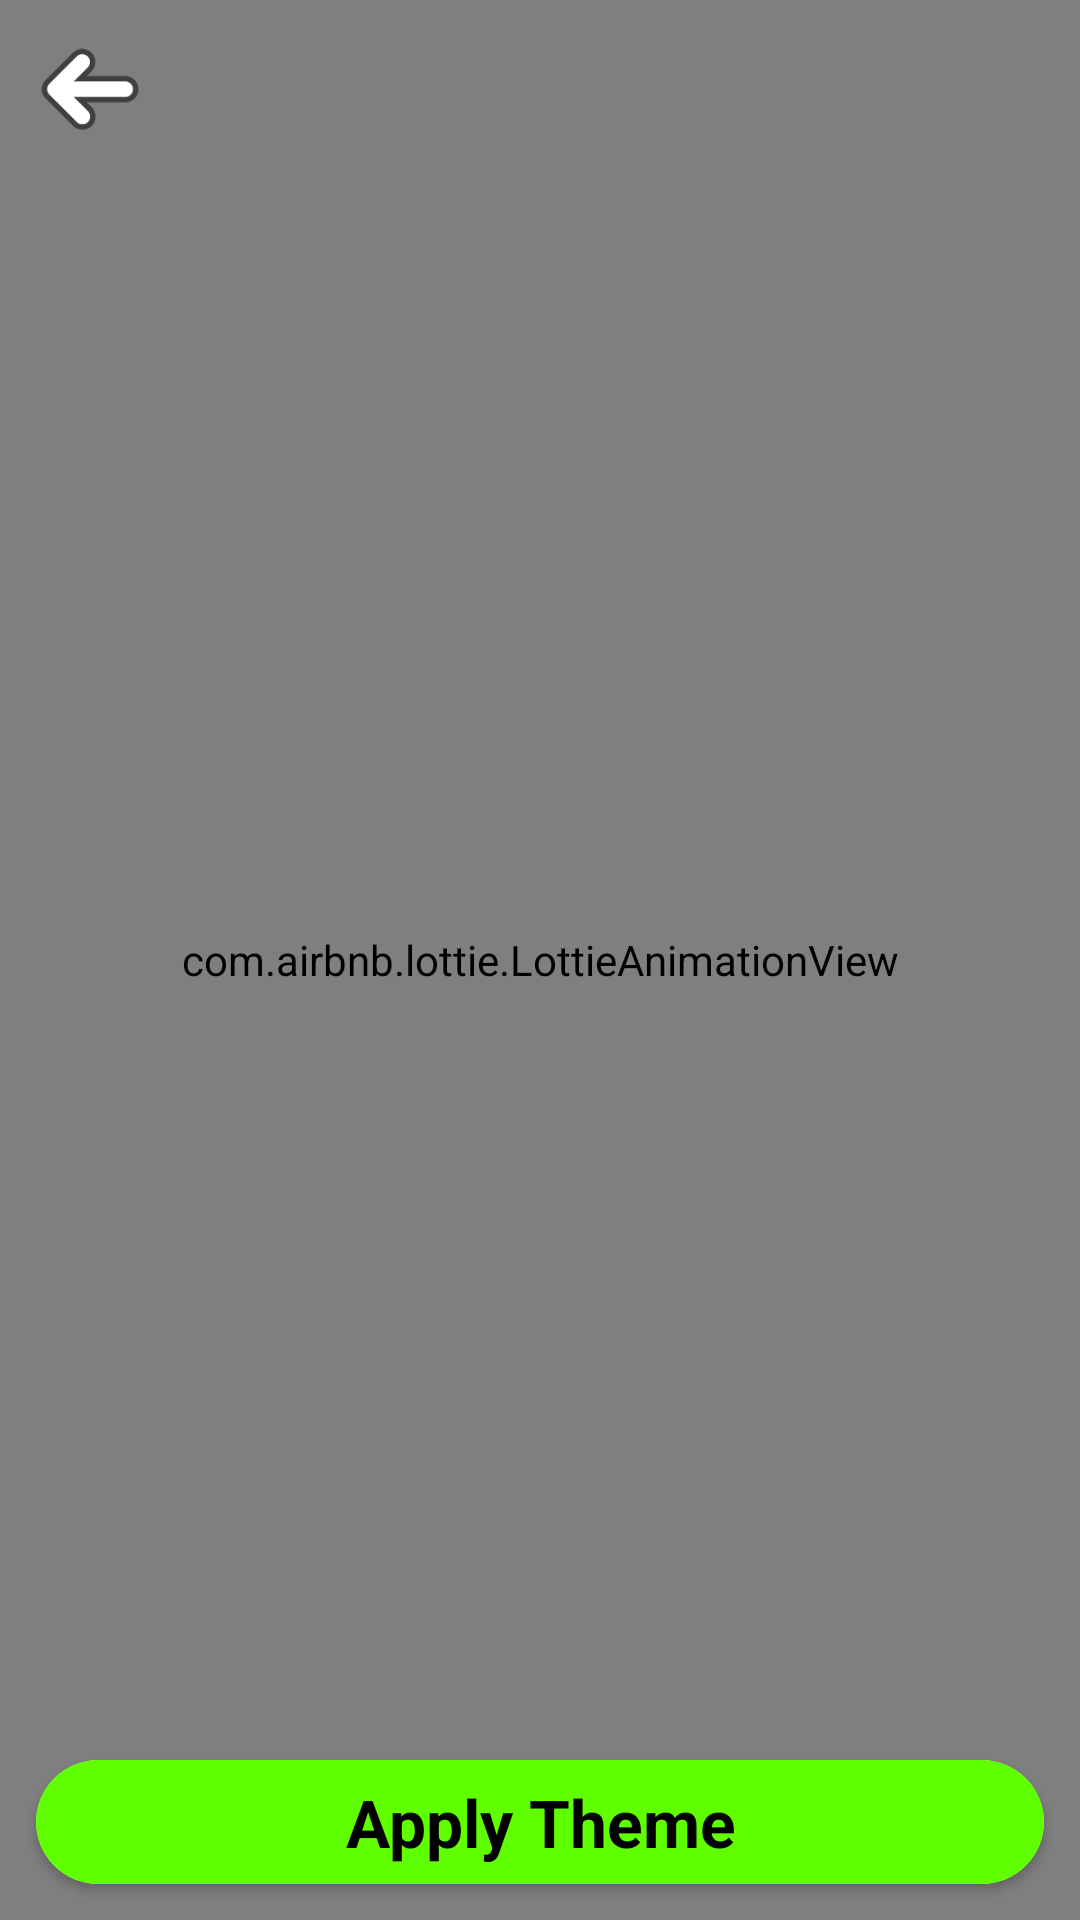

Named icons in this screenshot (1080px x 1920px) and their bounding boxes, (x1, y1, x2, y2):
theme back: (41, 49, 139, 130)
